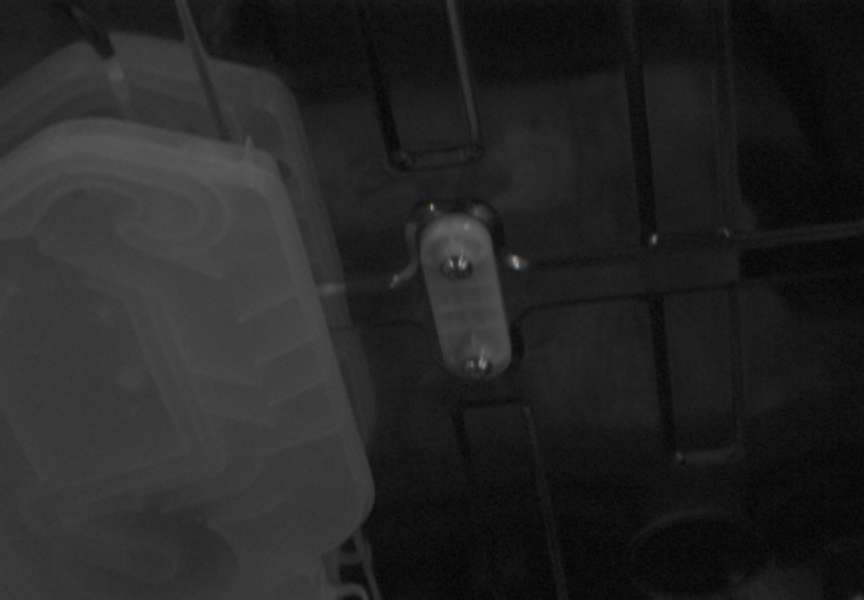screw: (440, 254, 473, 280), (463, 354, 493, 379)
